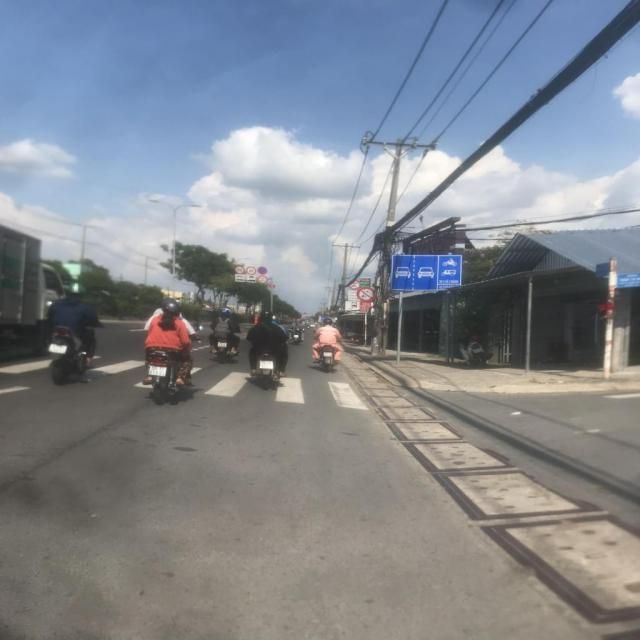cam_cac_loai_xe_3_banh: (356, 287, 376, 302)
cam_dung_xe_va_do_xe: (257, 266, 268, 275)
cam_o_to_tai_va_xe_khach: (349, 280, 360, 290)
cam_xe_2_banh_va_xe_3_banh_co_dong_co: (258, 276, 268, 284)
khac: (346, 301, 360, 311), (348, 291, 361, 300)
lan_duong_cho_tung_xe_theo_vach_ke_duong: (391, 254, 462, 290), (246, 279, 257, 283), (247, 275, 257, 279), (236, 278, 244, 282), (236, 274, 244, 278)
toc_do_toi_da_60: (246, 266, 256, 276)
toc_do_toi_da_80: (234, 266, 245, 274)
